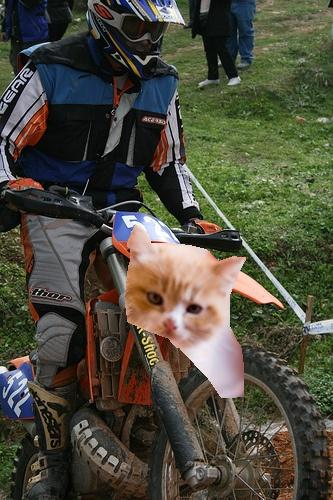tampered: (126, 225, 246, 398)
